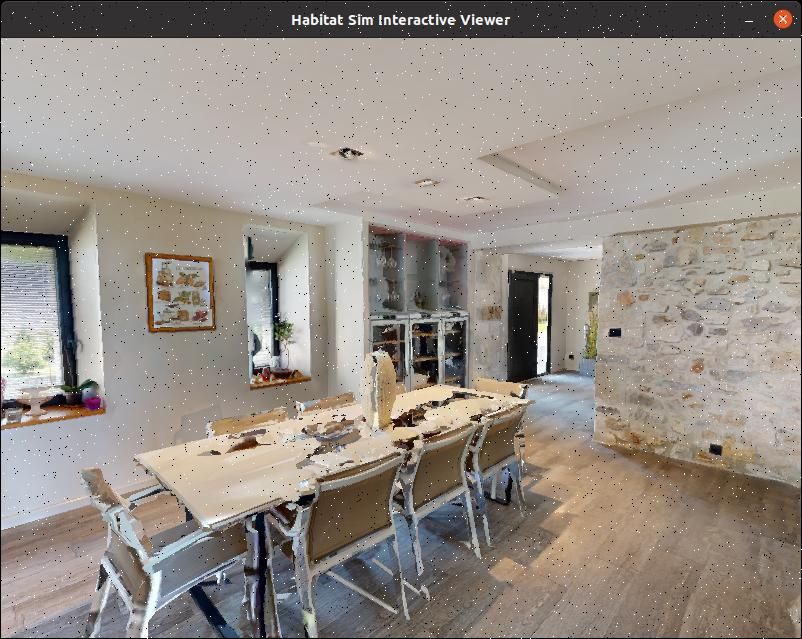chair: (71, 457, 266, 639), (251, 447, 420, 627), (385, 408, 517, 581)
door-frame: (483, 229, 613, 447)
table: (125, 353, 559, 639)
